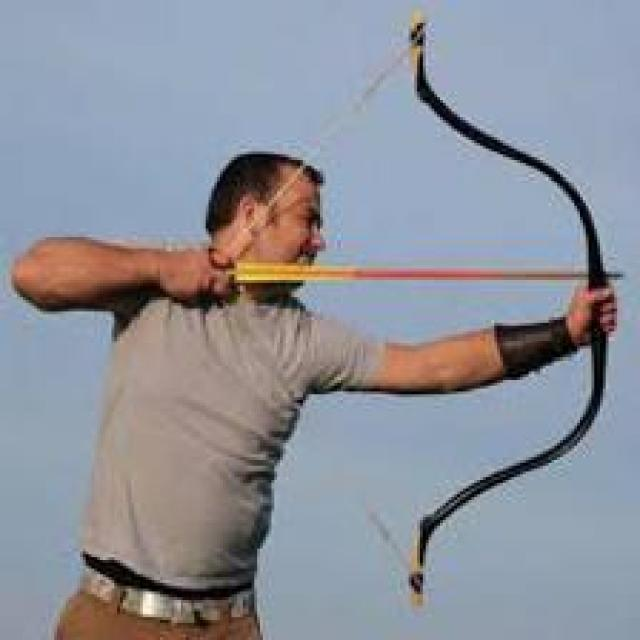X-Bow: (351, 24, 640, 622)
